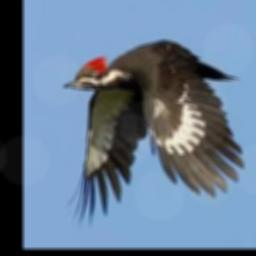Woodpecker: (64, 40, 244, 229)
